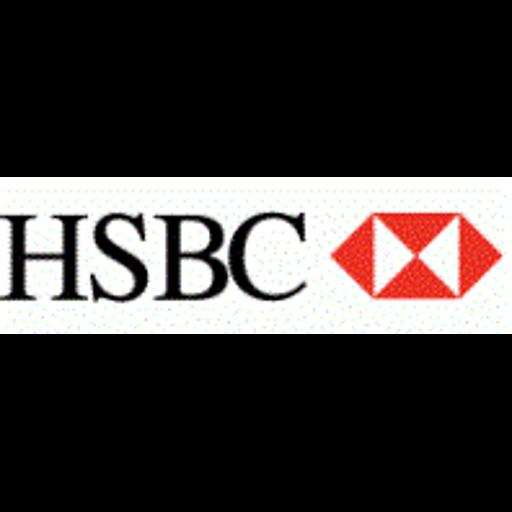HSBC Bank: (0, 177, 512, 334)
